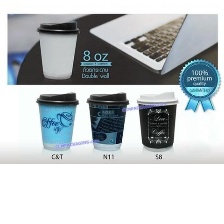paper_cup: (32, 16, 83, 82), (83, 88, 132, 154), (32, 89, 81, 154), (133, 88, 181, 154)
